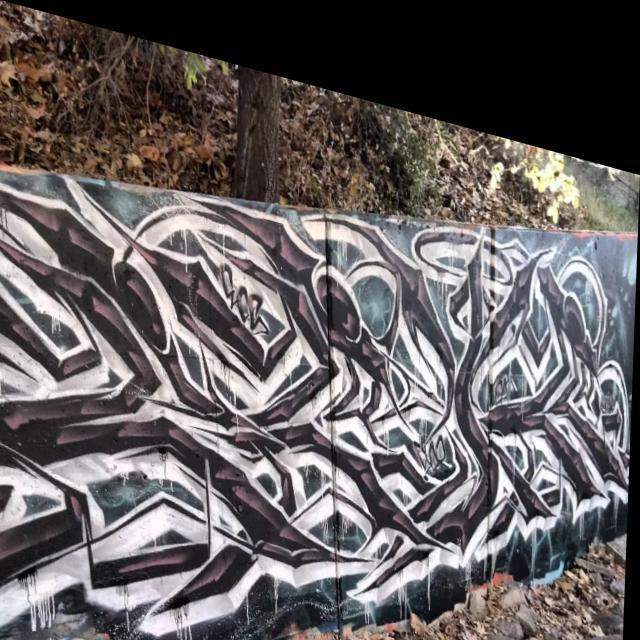-: (0, 56, 638, 640)
